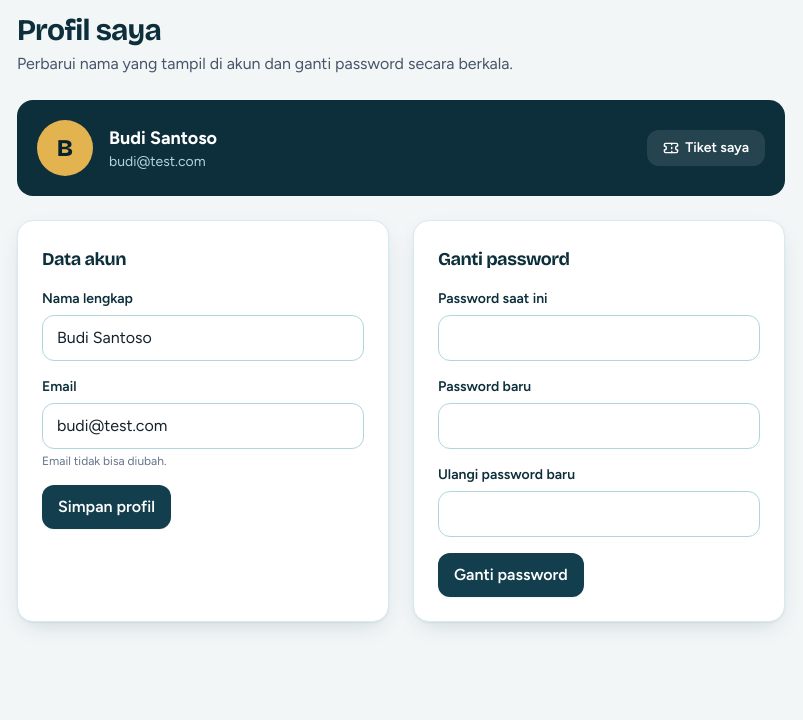
Test: ProfilePage › ganti password: validasi sisi klien
Type "pendek" into the password field with id "new-password".
click(599, 426); type("pendek")  # box x1=438 y1=403 x2=760 y2=449
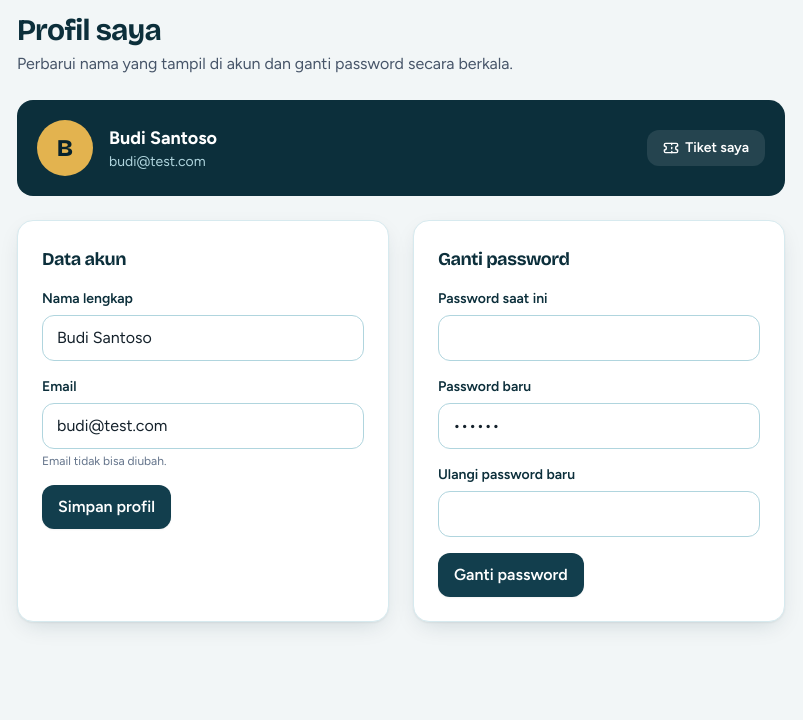
Type "beda" into the password field with id "confirm-password".
click(599, 514); type("beda")  # box x1=438 y1=491 x2=760 y2=537
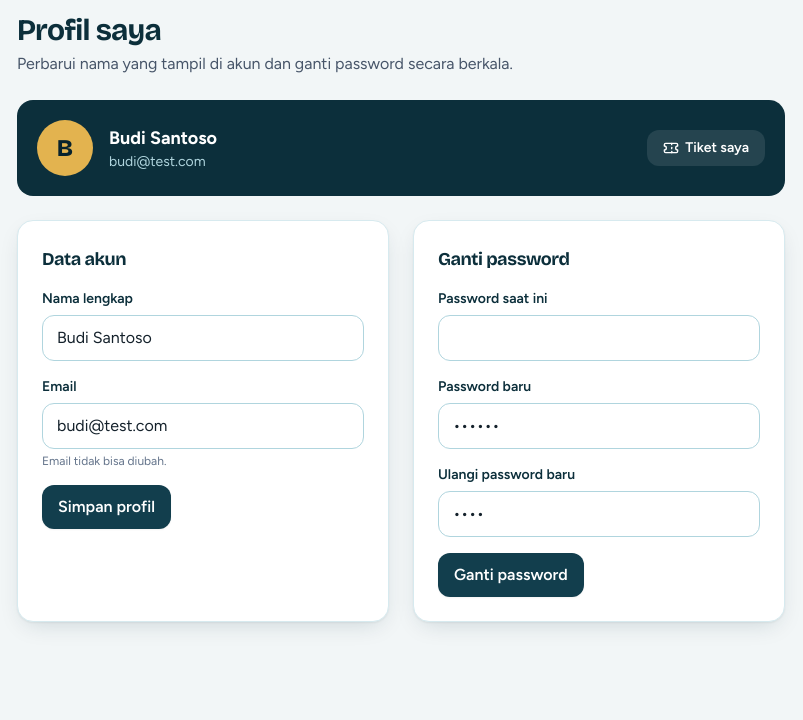
Submit the form that starts with "Ganti password", box x1=413 y1=220 x2=785 y2=622
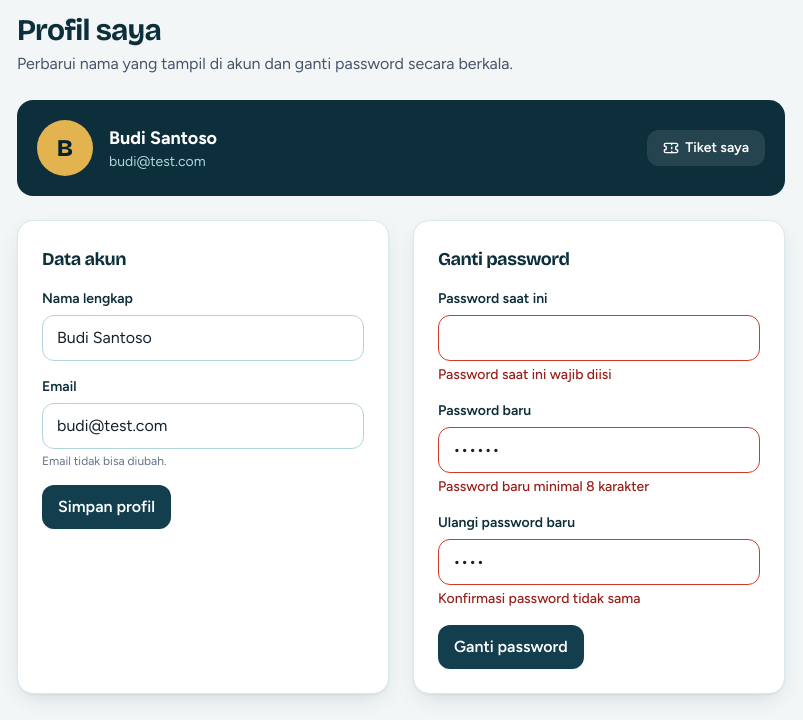
Expected: the text "Password saat ini wajib diisi" is shown, x1=438 y1=366 x2=612 y2=383
Expected: the text "Password baru minimal 8 karakter" is shown, x1=438 y1=478 x2=649 y2=495
Expected: the text "Konfirmasi password tidak sama" is shown, x1=438 y1=590 x2=640 y2=607
